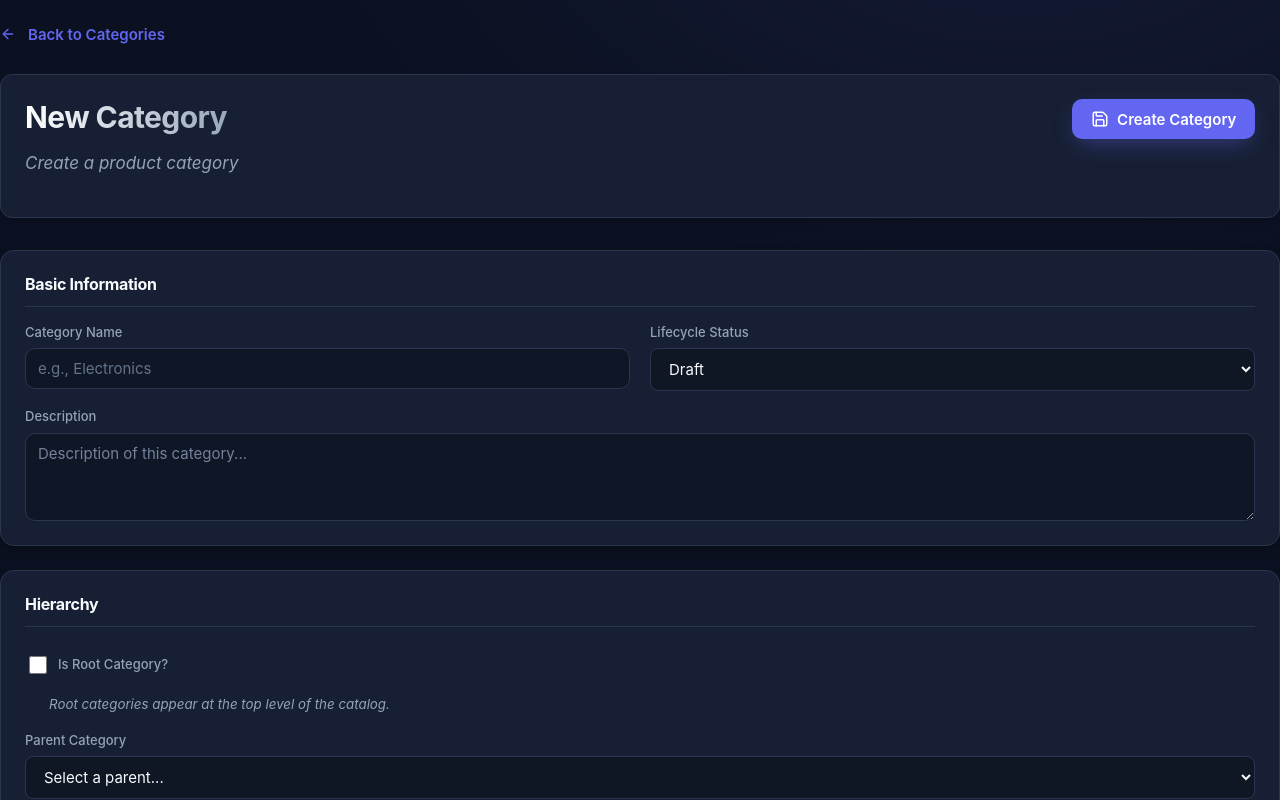
Test case: CategoryEditPage › shows a generic error for a non-Error rejection
In the field labelled "Category Name": (328, 369) left=25, top=348, right=630, bottom=389, type "X"
(page scrolled)
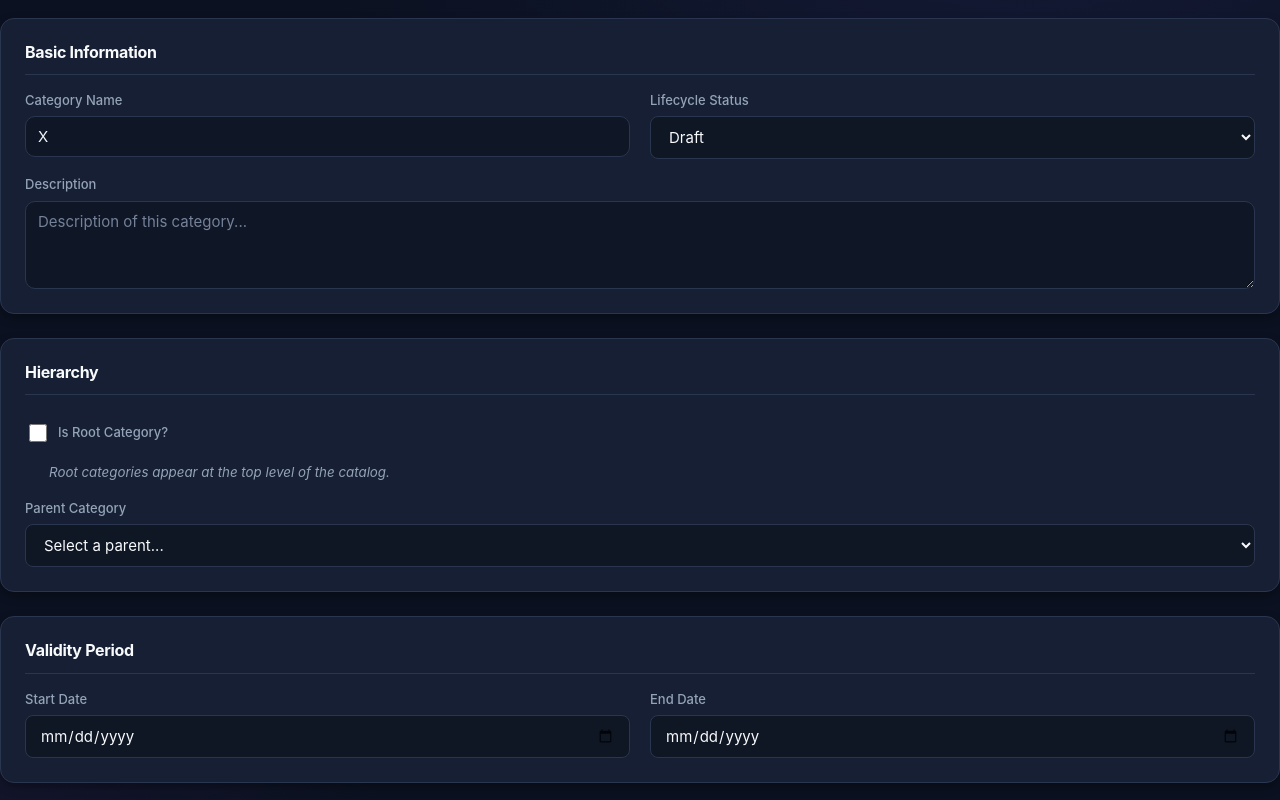
Submit the form with id "category-form"
(page scrolled)
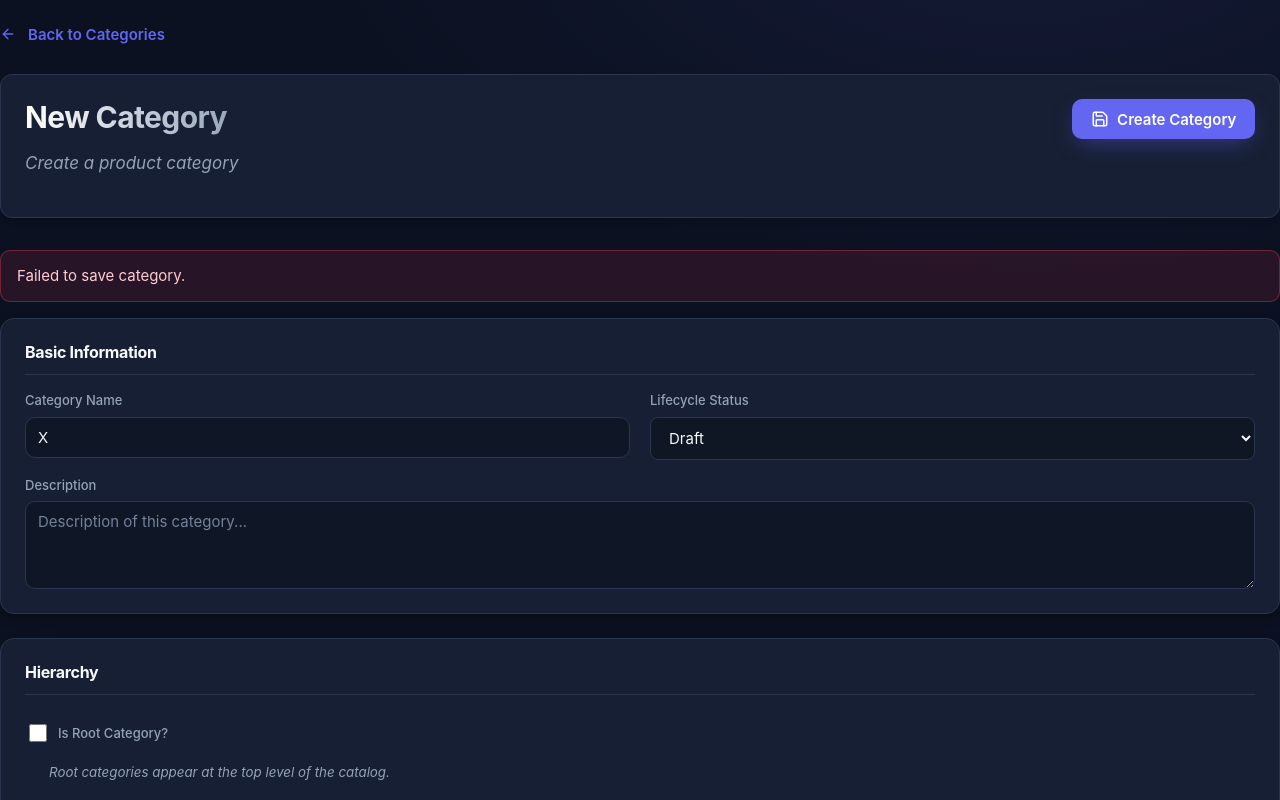
expect the text "Failed to save category." is shown: met, box left=0, top=250, right=1279, bottom=302
